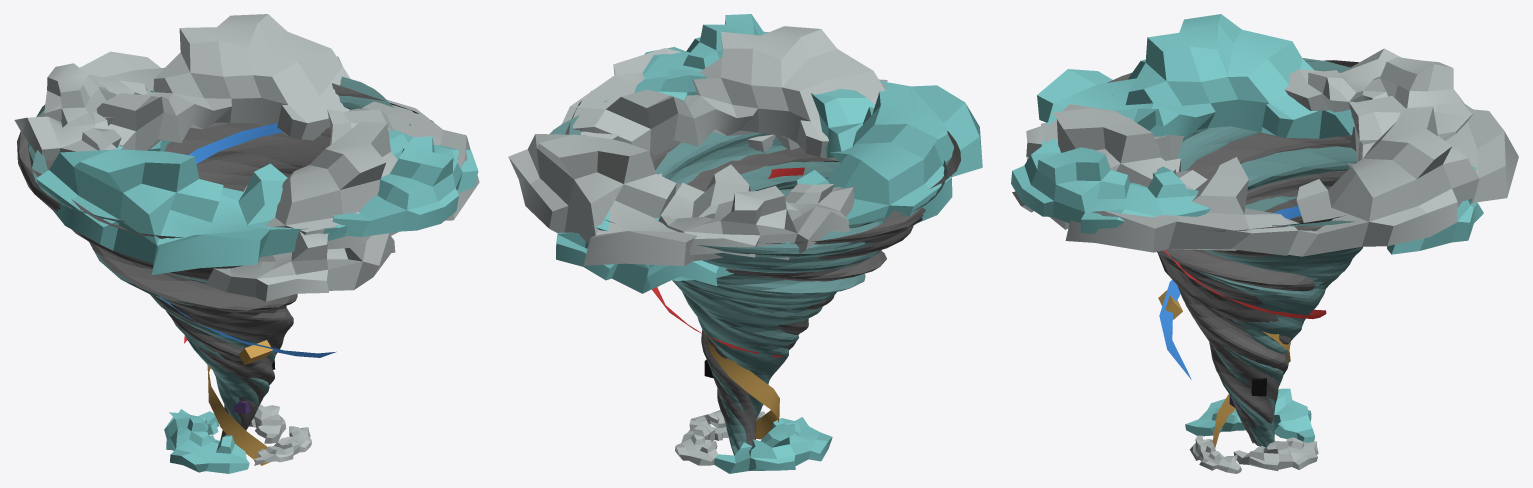
File: tornado.gltf
3 renders of one model, left to right at view 1: azimuth 30°, elevation 25°; view 2: azimuth 150°, elevation 25°; view 3: azimuth 270°, elevation 25°, orthographic. The views are drawn at different scales.
Bounding box in the file's own units: 17.32 × 16.03 × 20.34.
